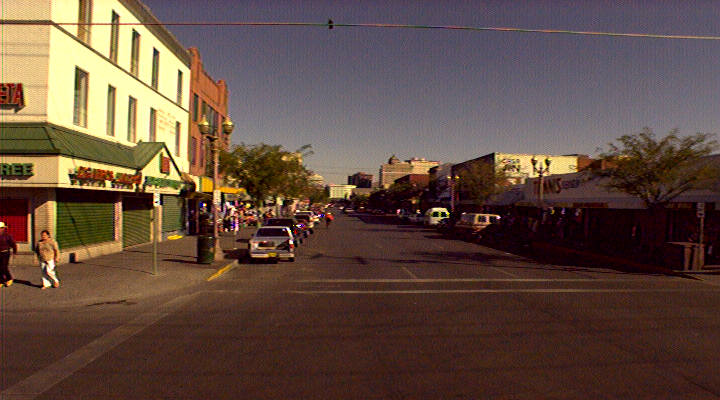Ramp: (1, 266, 221, 311), (682, 269, 720, 287)
